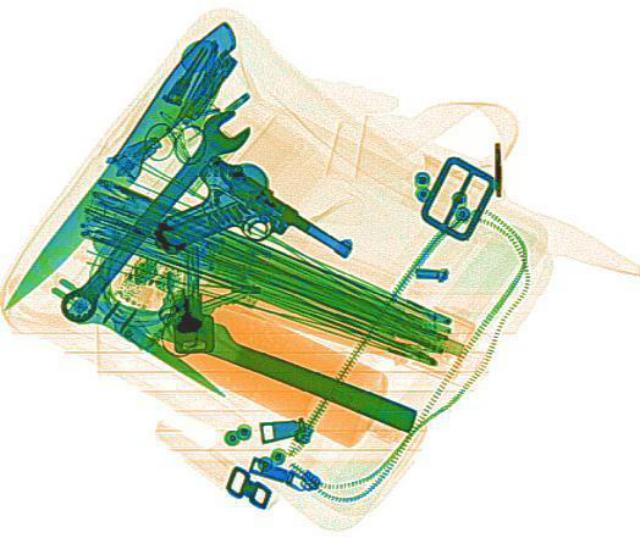Gun: (134, 152, 358, 316)
Knife: (0, 16, 244, 304), (74, 287, 418, 428), (46, 274, 232, 403)
Wrench: (42, 104, 258, 323)
